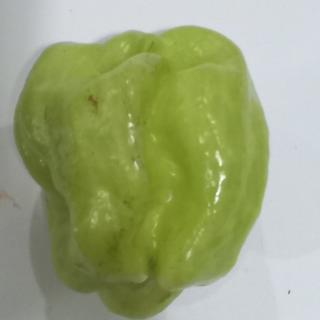Grade-A: (7, 23, 276, 319)
